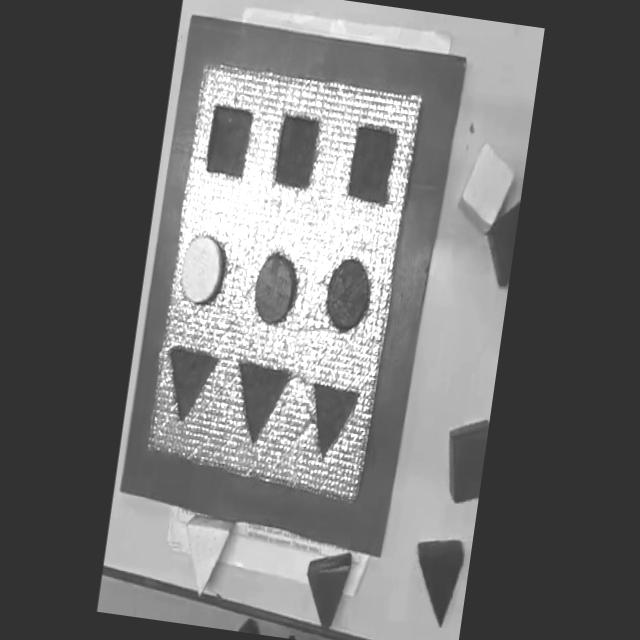bcircle: (320, 254, 374, 336)
btriangle: (406, 534, 466, 630)
mtcube: (346, 124, 400, 208), (204, 103, 255, 180), (274, 112, 322, 191)
mttriangle: (228, 358, 295, 448), (160, 342, 220, 426), (303, 381, 362, 464)
rcircle: (246, 246, 303, 334)
rcube: (439, 413, 490, 508)
rtriangle: (300, 546, 354, 633)
wb: (140, 58, 426, 506)
ycircle: (176, 230, 232, 314)
ycube: (454, 138, 518, 239)
ytriangle: (177, 512, 234, 600)
